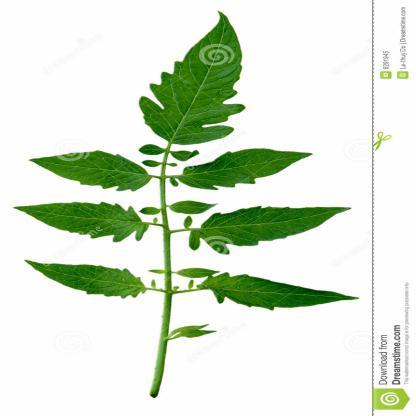Tomato leaf bacterial spot: (136, 14, 252, 150), (199, 197, 358, 258), (192, 266, 363, 320), (18, 250, 167, 307), (166, 147, 326, 198), (6, 196, 170, 245), (26, 143, 152, 193)
